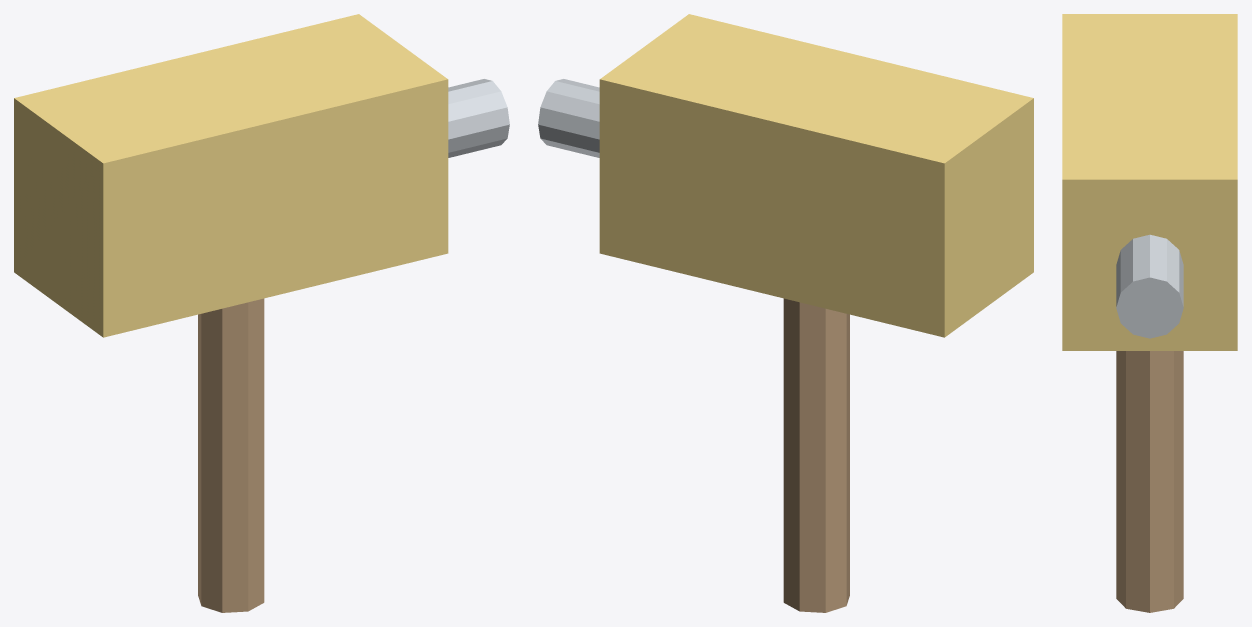
The model's file is mazo_2.glb.
3 views of the same model, side by side, from view 1: azimuth 30°, elevation 25°; view 2: azimuth 150°, elevation 25°; view 3: azimuth 270°, elevation 25° (orthographic).
Parts seen in each view (by area): view 1: cabeza, mango, piston; view 2: cabeza, mango, piston; view 3: cabeza, mango, piston.
Boxes of the visible parts, <box> form: cabeza: <box>14,14,448,337</box>; mango: <box>198,298,264,612</box>; piston: <box>448,79,509,157</box>; cabeza: <box>599,14,1033,337</box>; mango: <box>783,298,849,612</box>; piston: <box>538,79,599,157</box>; cabeza: <box>1062,14,1237,350</box>; mango: <box>1116,351,1183,612</box>; piston: <box>1116,234,1183,338</box>.
Bounding box in the file's own units: 0.8012 × 0.9 × 0.2854.
